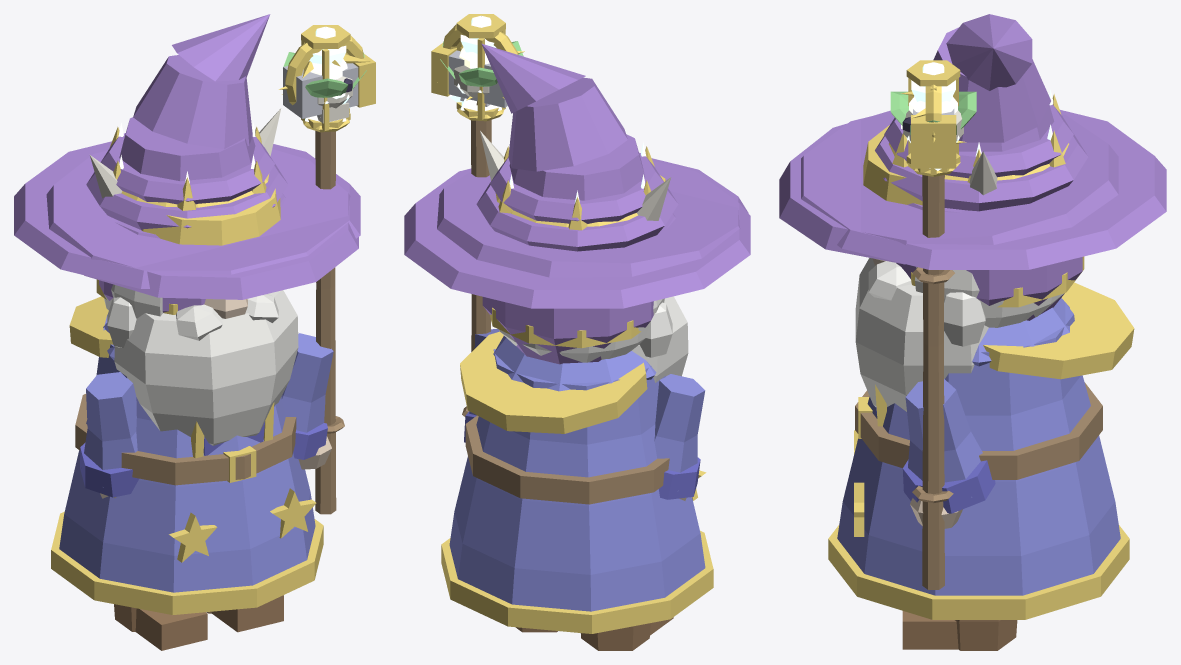
Rendered from wizard.glb.
3 renders of one model, left to right at view 1: azimuth 30°, elevation 25°; view 2: azimuth 150°, elevation 25°; view 3: azimuth 270°, elevation 25°, orthographic. The views are drawn at different scales.
Parts seen in each view (by area): view 1: Robe, Beard, Brim, HV_WideBrim, HatCone2, Hem, Belt, HatCone, Staff, ArmL, HV_Turban3, HatTip (+23 smaller); view 2: Robe, HV_WideBrim, Brim, CollarTrim, HatCone2, Hem, Belt, HV_Hood, HV_Turban2, HatCone, HV_Turban3, ArmL (+16 smaller); view 3: Robe, HV_WideBrim, Brim, Beard, Hem, Staff, CollarTrim, Belt, HV_Turban2, HatTip, HatCone2, ArmR (+17 smaller).
Part boxes in pixels (<box>): Robe: <box>59,315,315,592</box>; Beard: <box>114,290,298,445</box>; Brim: <box>46,149,358,299</box>; HV_WideBrim: <box>14,141,360,288</box>; HatCone2: <box>133,55,252,149</box>; Hem: <box>51,511,323,614</box>; Belt: <box>75,394,296,485</box>; HatCone: <box>119,117,255,181</box>; Staff: <box>315,131,336,514</box>; ArmL: <box>81,372,137,487</box>; HV_Turban3: <box>100,133,274,204</box>; HatTip: <box>172,14,270,81</box>; Robe: <box>449,349,705,611</box>; HV_WideBrim: <box>404,161,750,308</box>; Brim: <box>437,158,748,277</box>; CollarTrim: <box>460,331,647,433</box>; HatCone2: <box>508,77,627,171</box>; Hem: <box>441,530,713,633</box>; Belt: <box>465,415,669,504</box>; HV_Hood: <box>482,297,653,364</box>; HV_Turban2: <box>476,182,678,251</box>; HatCone: <box>509,134,645,200</box>; HV_Turban3: <box>490,152,663,223</box>; ArmL: <box>654,374,705,491</box>; Robe: <box>837,303,1120,595</box>; HV_WideBrim: <box>801,110,1166,269</box>; Brim: <box>779,110,1118,264</box>; Beard: <box>855,258,988,411</box>; Hem: <box>828,524,1129,619</box>; Staff: <box>922,175,944,589</box>; CollarTrim: <box>983,282,1134,379</box>; Belt: <box>855,382,1102,479</box>; HV_Turban2: <box>875,133,1088,211</box>; HatTip: <box>946,14,1032,90</box>; HatCone2: <box>933,27,1050,142</box>; ArmR: <box>905,379,982,497</box>.
Bounding box in the file's own units: 1.91 × 3.3 × 1.87.
